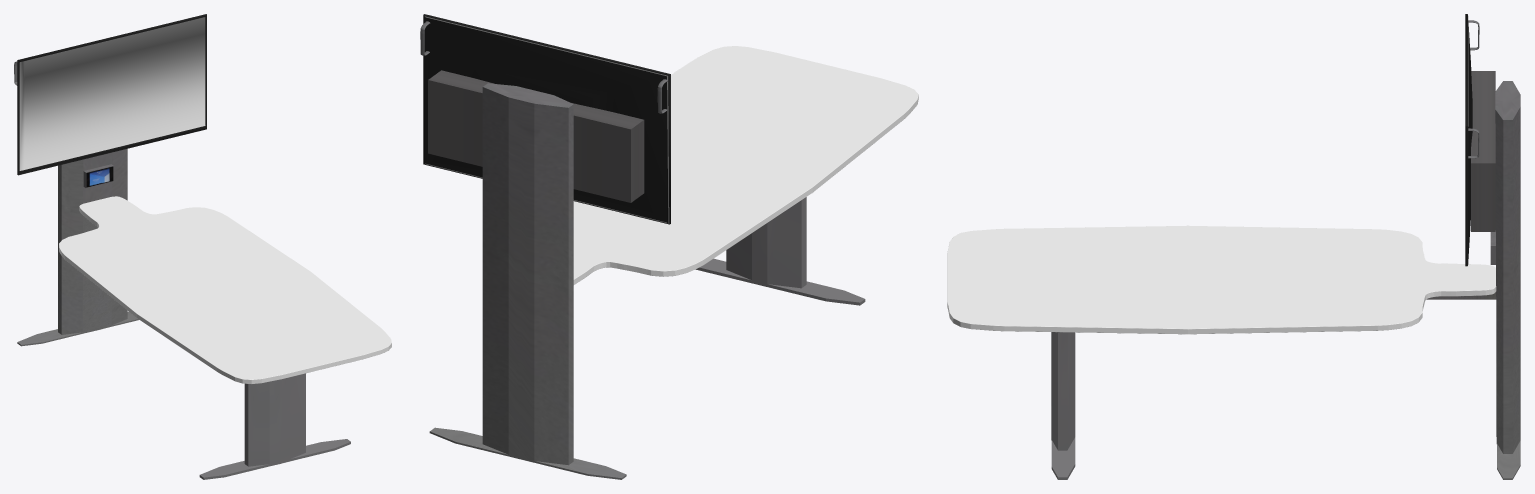
The model's file is MarketingSuiteDesk.fbx.
3 renders of one model, left to right at view 1: azimuth 30°, elevation 25°; view 2: azimuth 150°, elevation 25°; view 3: azimuth 270°, elevation 25°, orthographic. The views are drawn at different scales.
Parts seen in each view (by area): view 1: tv_small_wall_7.002; view 2: tv_small_wall_7.002; view 3: tv_small_wall_7.002.
Boxes of the visible parts, bbox=[...] form: tv_small_wall_7.002: bbox=[14, 14, 391, 479]; tv_small_wall_7.002: bbox=[420, 14, 918, 479]; tv_small_wall_7.002: bbox=[947, 14, 1520, 479].
Size of the model in its own units: 91.87 by 140 by 198.
